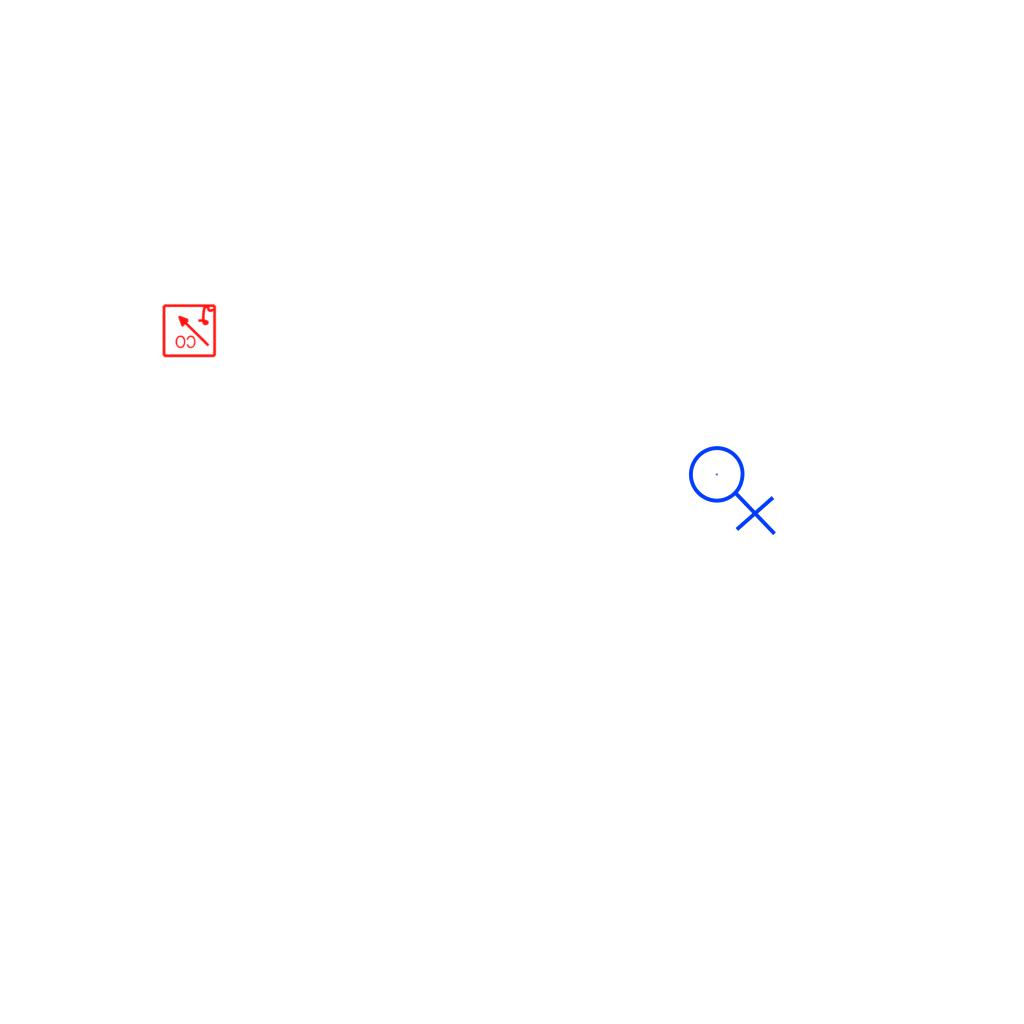Elektroanschluss_allgemein_230V_Geraeteanschlussdose_230V: (687, 437, 781, 536)
ROA_Rauchmelder_optisch_mit_Signalgeber_(Sockelsirene): (161, 302, 217, 358)
